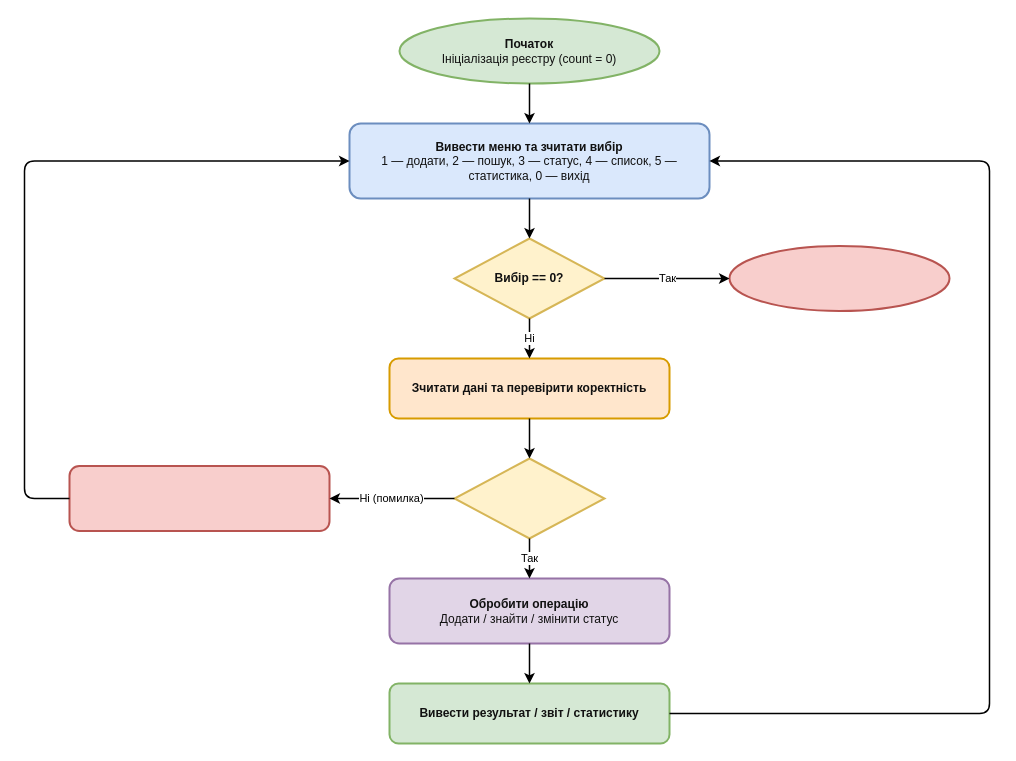
This 1016x761 diagram has some shape labels left out. The shapes that lost their labels are listed below. From the top down, each one's centre as x and y in pixels, then its label:
the point at 839,278: Кінець Завершення роботи сервісу
the point at 199,498: Повідомлення про помилку введення Стан реєстру не змінюється
the point at 529,498: Дані коректні?
